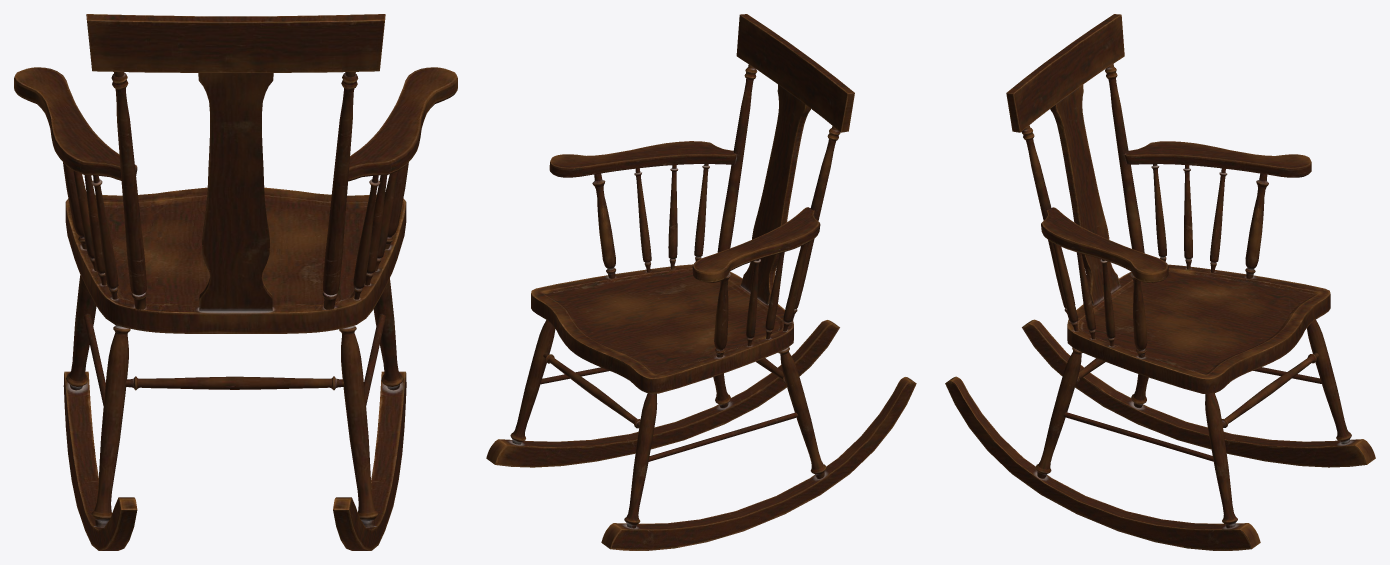
File: SM_PH_Rockingchair_01.fbx
3 renders of one model, left to right at view 1: azimuth 30°, elevation 25°; view 2: azimuth 150°, elevation 25°; view 3: azimuth 270°, elevation 25°, orthographic. The views are drawn at different scales.
Parts seen in each view (by area): view 1: SM_PH_Rockingchair_01; view 2: SM_PH_Rockingchair_01; view 3: SM_PH_Rockingchair_01.
Part boxes in pixels (box(x1,y1,x2,y2)): SM_PH_Rockingchair_01: box(14, 14, 457, 550); SM_PH_Rockingchair_01: box(486, 14, 916, 550); SM_PH_Rockingchair_01: box(945, 14, 1375, 550).
Bounding box in the file's own units: 0.8107 × 0.9493 × 0.9949.
1 material, 1 textured.
